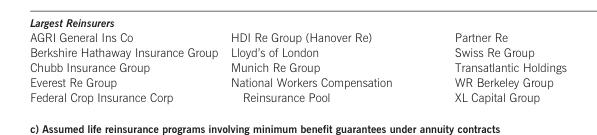table: (29, 29, 566, 104)
table column: (223, 29, 422, 104), (29, 29, 223, 104), (422, 29, 566, 104)
table column header: (29, 29, 566, 43)
table row: (29, 43, 566, 59), (29, 59, 566, 74), (29, 74, 566, 89), (29, 89, 566, 104), (29, 29, 566, 43)
